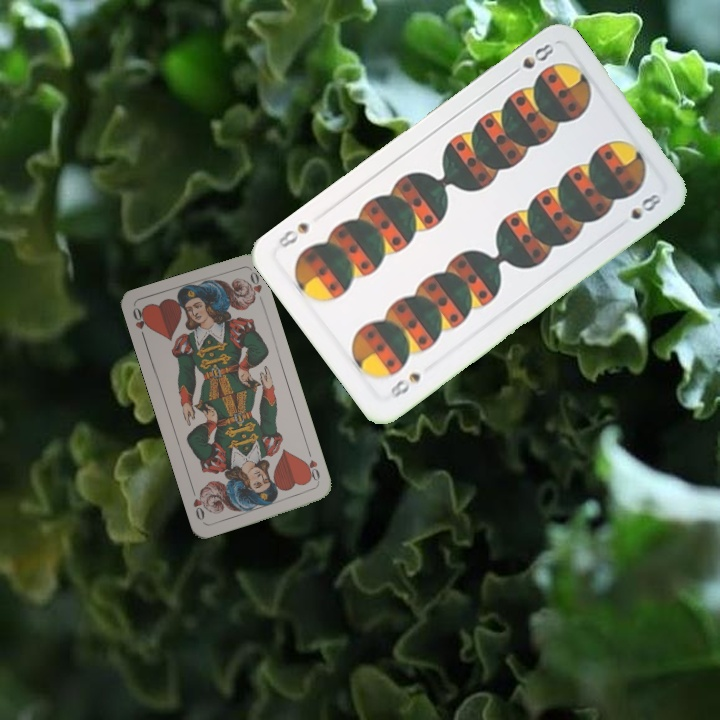HO: (129, 303, 151, 344), (300, 446, 322, 486)
S8: (505, 39, 557, 80), (385, 368, 424, 402)
